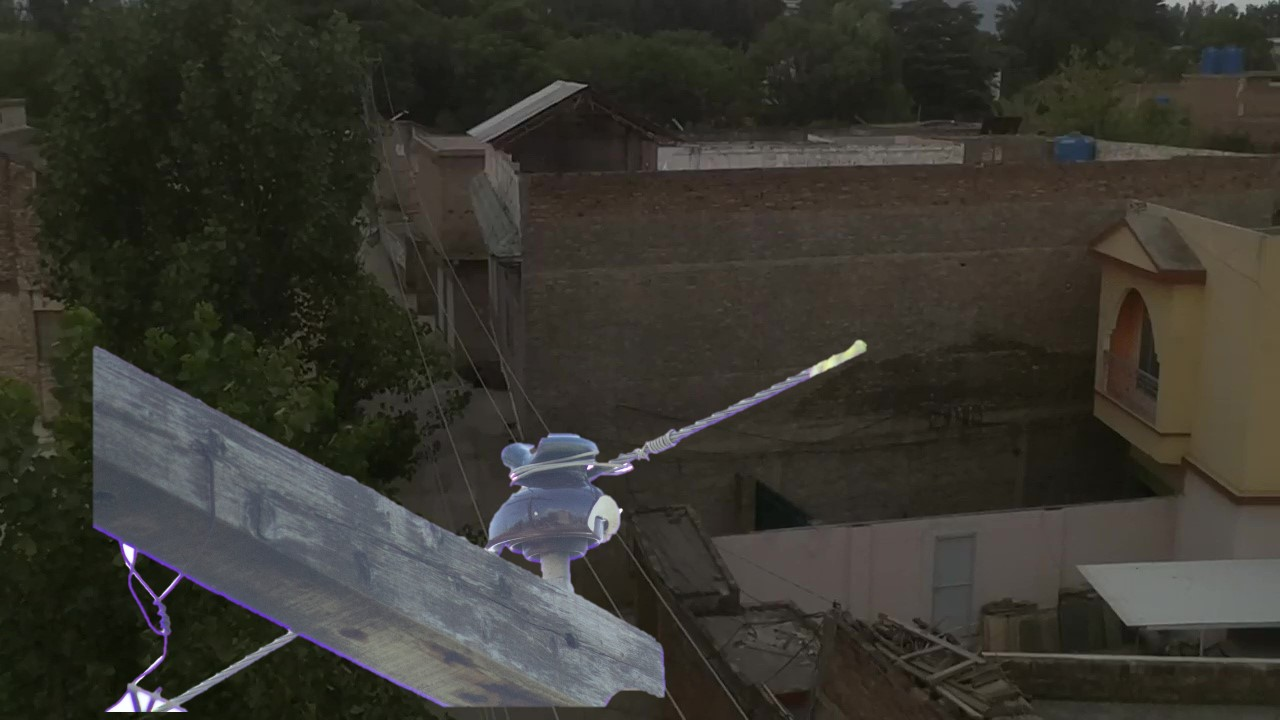defect_pin: (481, 422, 633, 574)
